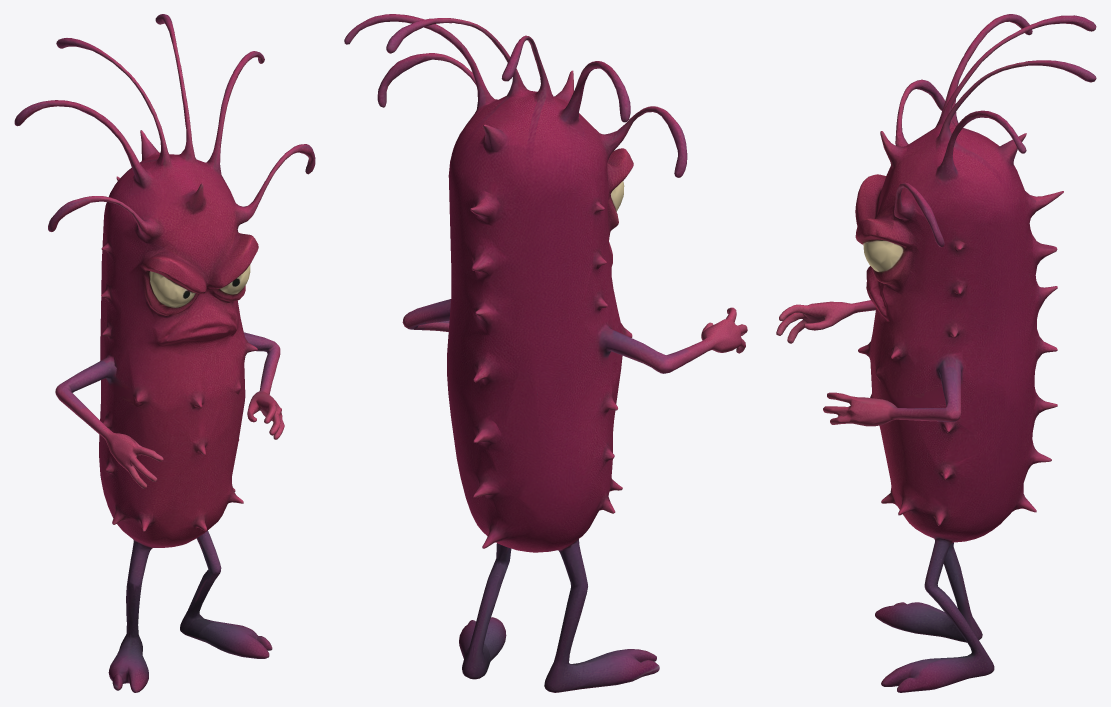
The model's file is Char_HarmfulBacteria.glb.
3 views of the same model, side by side, from view 1: azimuth 30°, elevation 25°; view 2: azimuth 150°, elevation 25°; view 3: azimuth 270°, elevation 25° (orthographic). The views are drawn at different scales.
Bounding box in the file's own units: 0.8989 × 1.9 × 0.8878.
1 material, 1 textured.
